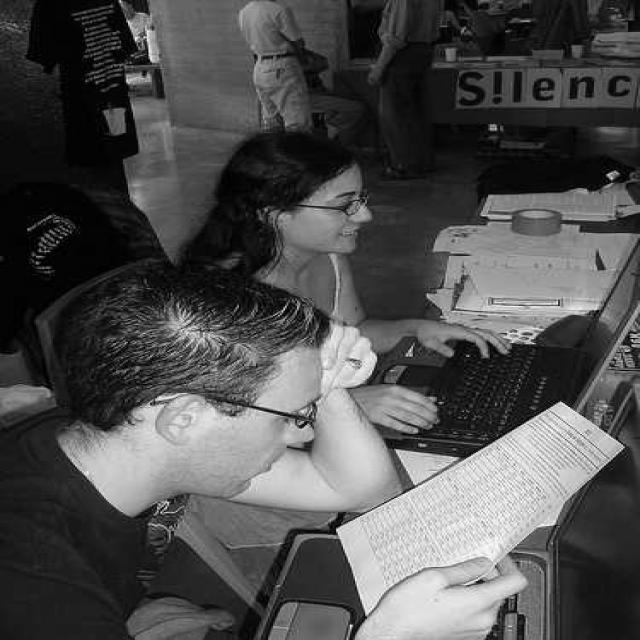laptop: (266, 448, 640, 638), (443, 265, 640, 442)
